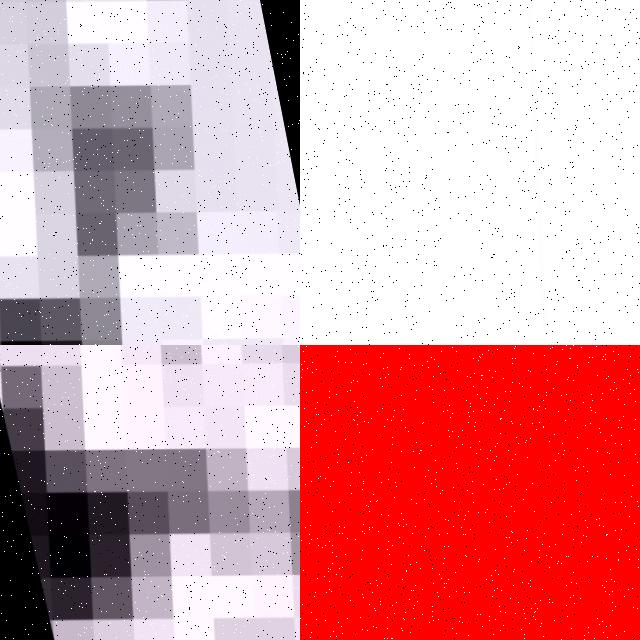drone: (300, 0, 640, 345), (0, 0, 300, 345), (0, 345, 300, 640)
